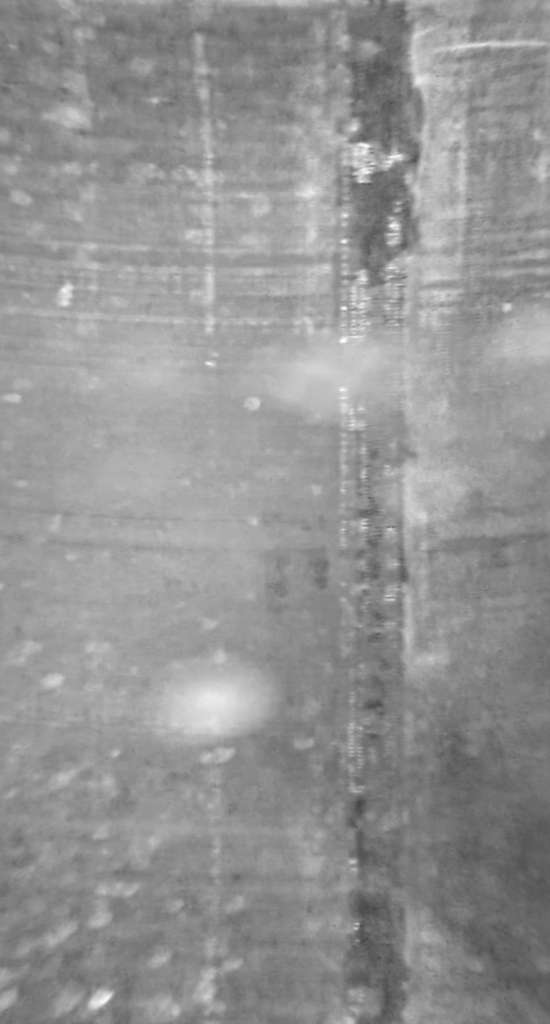splice: (326, 3, 429, 1024)
